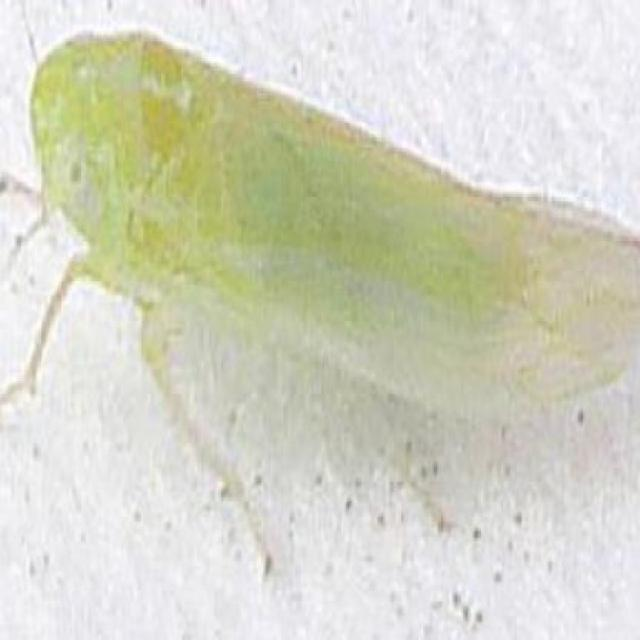green-leafhopper: (26, 22, 640, 416)
